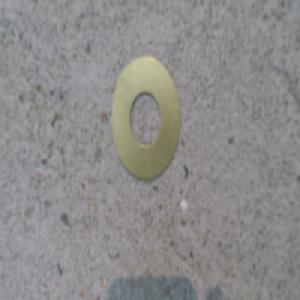Washer: (108, 57, 182, 187)
